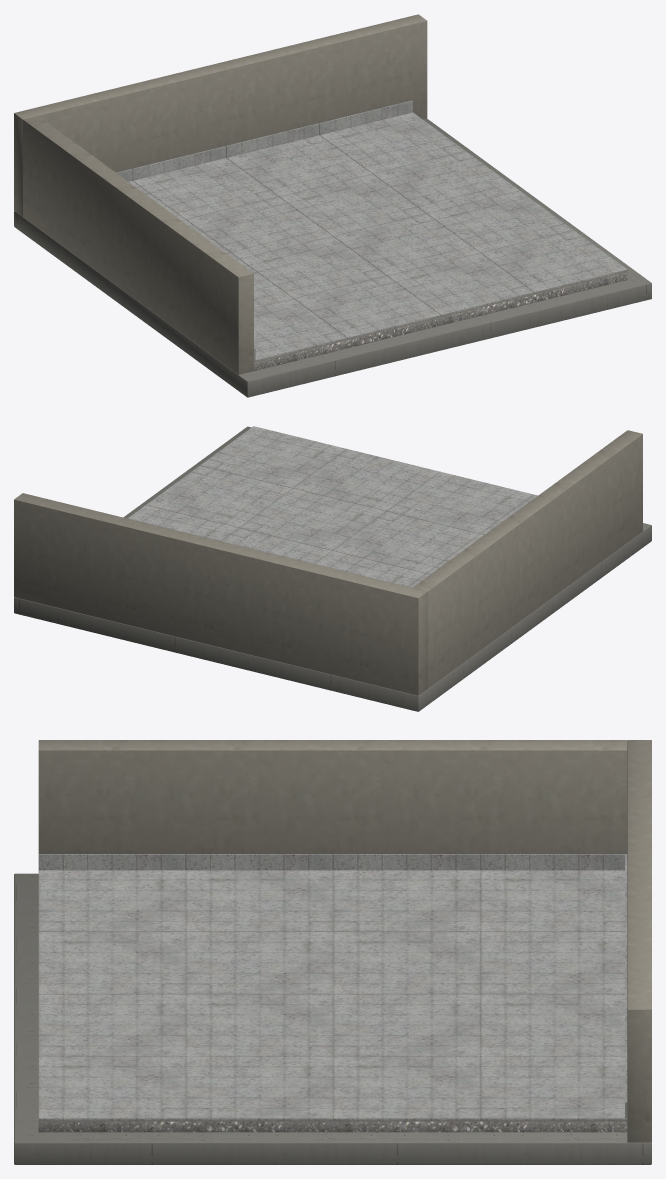
File: KIT-PIS-03_lod1.glb
3 renders of one model, top to bottom at view 1: azimuth 30°, elevation 25°; view 2: azimuth 150°, elevation 25°; view 3: azimuth 270°, elevation 25°, orthographic. The views are drawn at different scales.
Parts seen in each view (by area): view 1: KIT-PIS-03_parede_fundo, KIT-PIS-03_parede_esq, KIT-PIS-03_laje, KIT-PIS-03_p12, KIT-PIS-03_p8, KIT-PIS-03_p4, KIT-PIS-03_p13, KIT-PIS-03_p14, KIT-PIS-03_p6, KIT-PIS-03_p9, KIT-PIS-03_p5, KIT-PIS-03_p10 (+10 smaller); view 2: KIT-PIS-03_parede_fundo, KIT-PIS-03_parede_esq, KIT-PIS-03_laje, KIT-PIS-03_p9, KIT-PIS-03_p5, KIT-PIS-03_p4, KIT-PIS-03_p12, KIT-PIS-03_p13, KIT-PIS-03_p8, KIT-PIS-03_p6, KIT-PIS-03_p14, KIT-PIS-03_p10; view 3: KIT-PIS-03_parede_esq, KIT-PIS-03_laje, KIT-PIS-03_parede_fundo, KIT-PIS-03_p13, KIT-PIS-03_p14, KIT-PIS-03_p12, KIT-PIS-03_p15, KIT-PIS-03_p10, KIT-PIS-03_p5, KIT-PIS-03_p6, KIT-PIS-03_p9, KIT-PIS-03_p4 (+13 smaller).
Part boxes in pixels (x1=…): KIT-PIS-03_parede_fundo: x1=14, y1=14, x2=427, y2=216; KIT-PIS-03_parede_esq: x1=23, y1=116, x2=253, y2=374; KIT-PIS-03_laje: x1=14, y1=118, x2=651, y2=397; KIT-PIS-03_p12: x1=481, y1=230, x2=627, y2=293; KIT-PIS-03_p8: x1=387, y1=253, x2=534, y2=316; KIT-PIS-03_p4: x1=294, y1=276, x2=440, y2=338; KIT-PIS-03_p13: x1=427, y1=190, x2=573, y2=252; KIT-PIS-03_p14: x1=373, y1=151, x2=519, y2=213; KIT-PIS-03_p6: x1=186, y1=197, x2=332, y2=258; KIT-PIS-03_p9: x1=333, y1=213, x2=479, y2=275; KIT-PIS-03_p5: x1=240, y1=236, x2=386, y2=298; KIT-PIS-03_p10: x1=279, y1=174, x2=426, y2=236; KIT-PIS-03_parede_fundo: x1=14, y1=493, x2=427, y2=695; KIT-PIS-03_parede_esq: x1=412, y1=430, x2=642, y2=688; KIT-PIS-03_laje: x1=14, y1=426, x2=651, y2=711; KIT-PIS-03_p9: x1=239, y1=488, x2=386, y2=550; KIT-PIS-03_p5: x1=333, y1=511, x2=479, y2=573; KIT-PIS-03_p4: x1=387, y1=471, x2=533, y2=533; KIT-PIS-03_p12: x1=200, y1=426, x2=346, y2=488; KIT-PIS-03_p13: x1=146, y1=465, x2=292, y2=527; KIT-PIS-03_p8: x1=293, y1=449, x2=439, y2=510; KIT-PIS-03_p6: x1=314, y1=550, x2=425, y2=586; KIT-PIS-03_p14: x1=127, y1=505, x2=238, y2=541; KIT-PIS-03_p10: x1=221, y1=528, x2=331, y2=563; KIT-PIS-03_parede_esq: x1=38, y1=740, x2=627, y2=871; KIT-PIS-03_laje: x1=14, y1=873, x2=651, y2=1164; KIT-PIS-03_parede_fundo: x1=627, y1=740, x2=651, y2=1142; KIT-PIS-03_p13: x1=186, y1=1056, x2=333, y2=1120; KIT-PIS-03_p14: x1=333, y1=1056, x2=480, y2=1120; KIT-PIS-03_p12: x1=39, y1=1056, x2=185, y2=1120; KIT-PIS-03_p15: x1=481, y1=1056, x2=627, y2=1120; KIT-PIS-03_p10: x1=333, y1=994, x2=480, y2=1056; KIT-PIS-03_p5: x1=186, y1=932, x2=333, y2=994; KIT-PIS-03_p6: x1=333, y1=932, x2=480, y2=994; KIT-PIS-03_p9: x1=186, y1=994, x2=333, y2=1056; KIT-PIS-03_p4: x1=39, y1=932, x2=185, y2=994.
Bounding box in the file's own units: 2.6 × 0.7 × 2.6.
5 materials, 5 textured.
